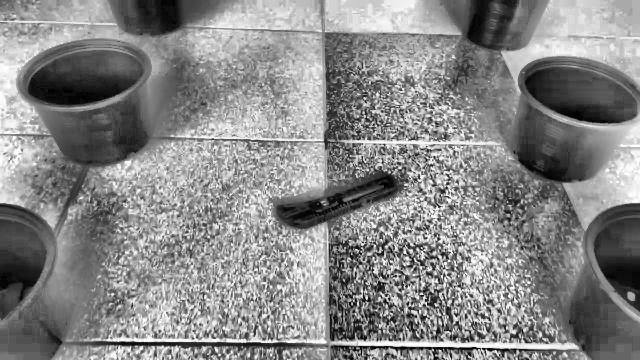pot: (16, 39, 154, 168), (509, 56, 640, 184)
